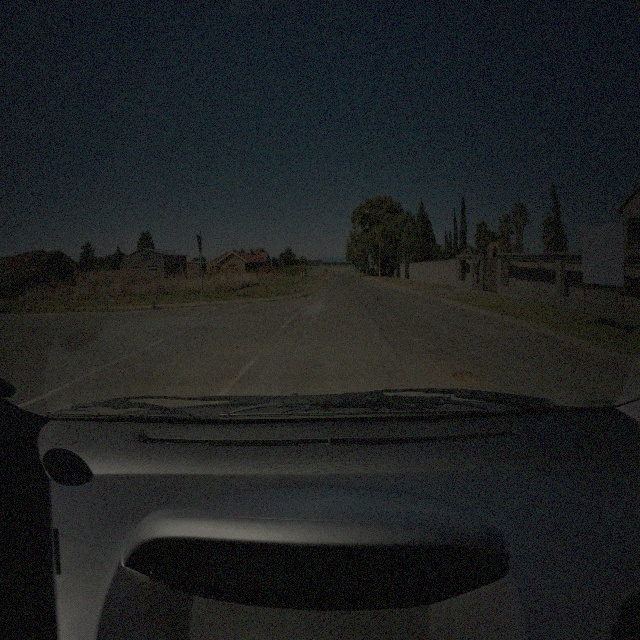pothole: (451, 368, 476, 385)
